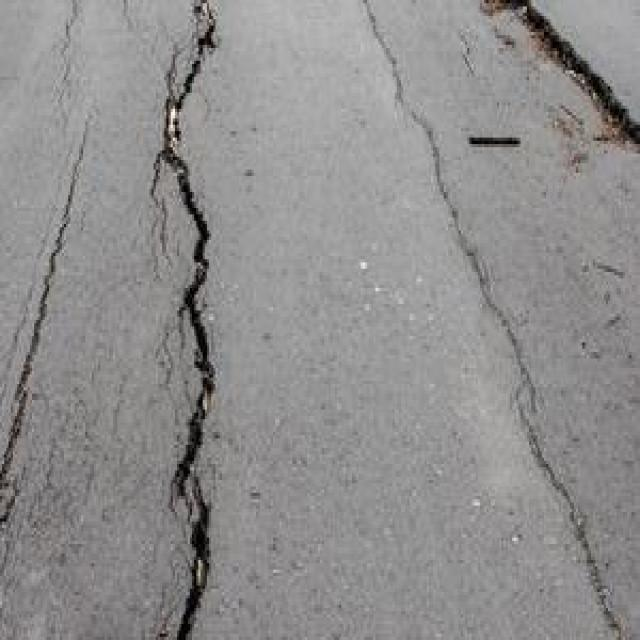road collapse: (39, 0, 410, 640)
